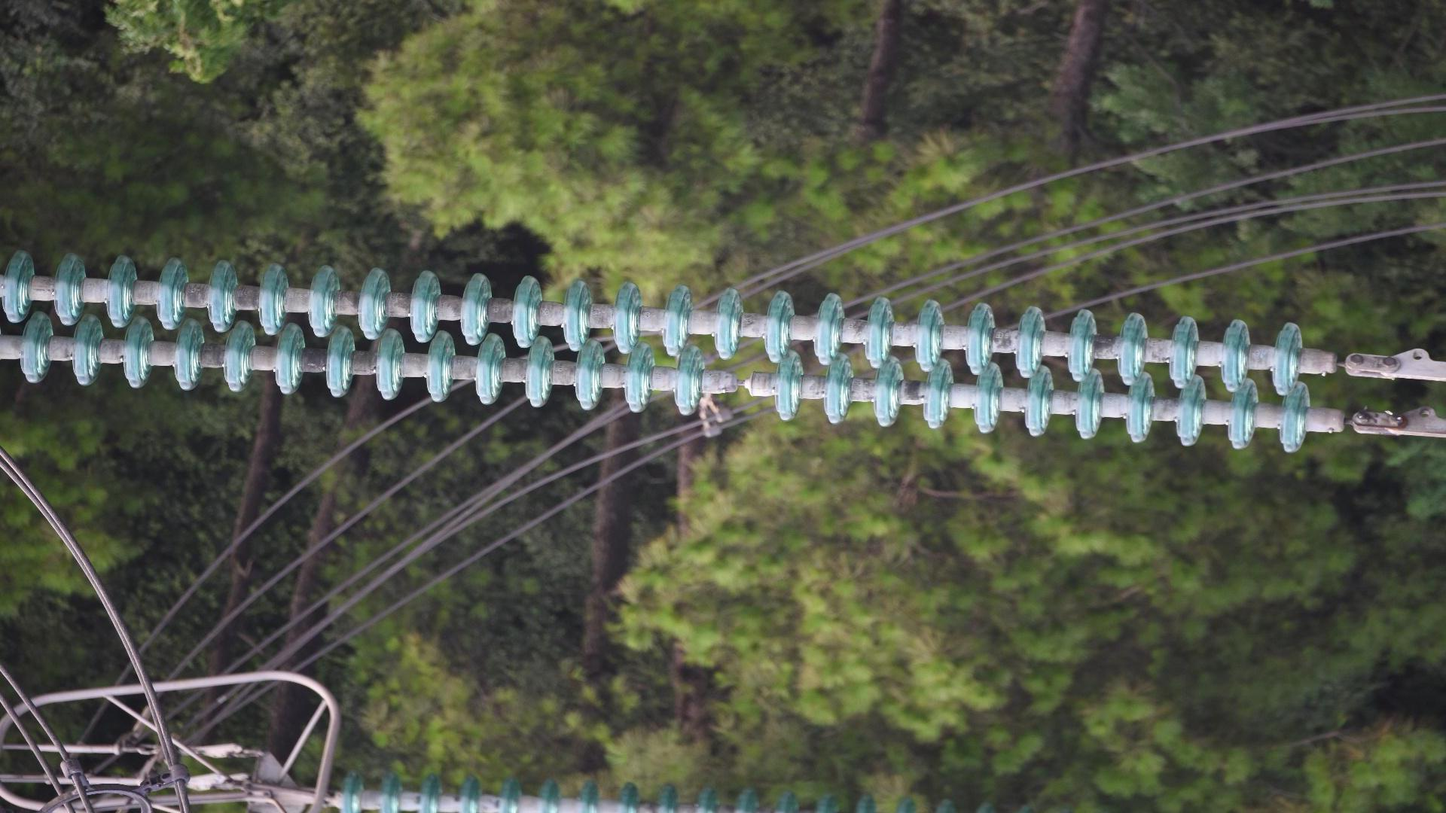insulator: (1, 241, 1323, 461), (335, 763, 969, 813)
insulator_stringdrop: (664, 338, 812, 428)
